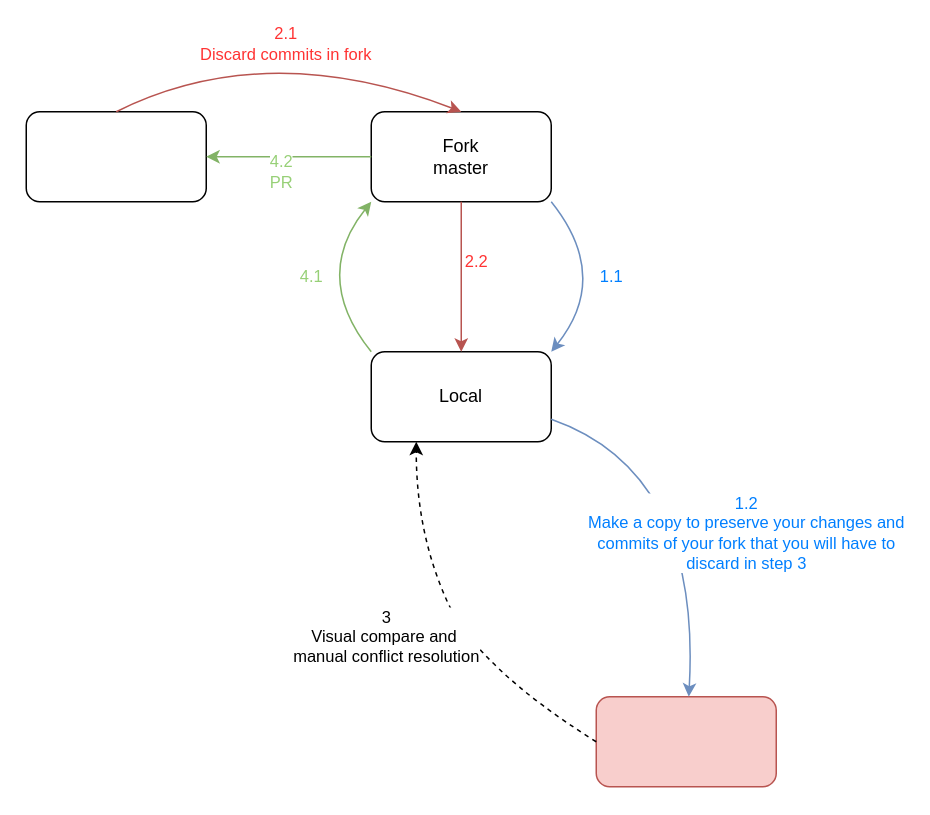
Image size: 930x815. Some labels were removed from this diagram. Each missing label, with the centre of its shape:
Local-Copy No Remote: (x=685, y=741)
VMTL master: (x=115, y=156)
